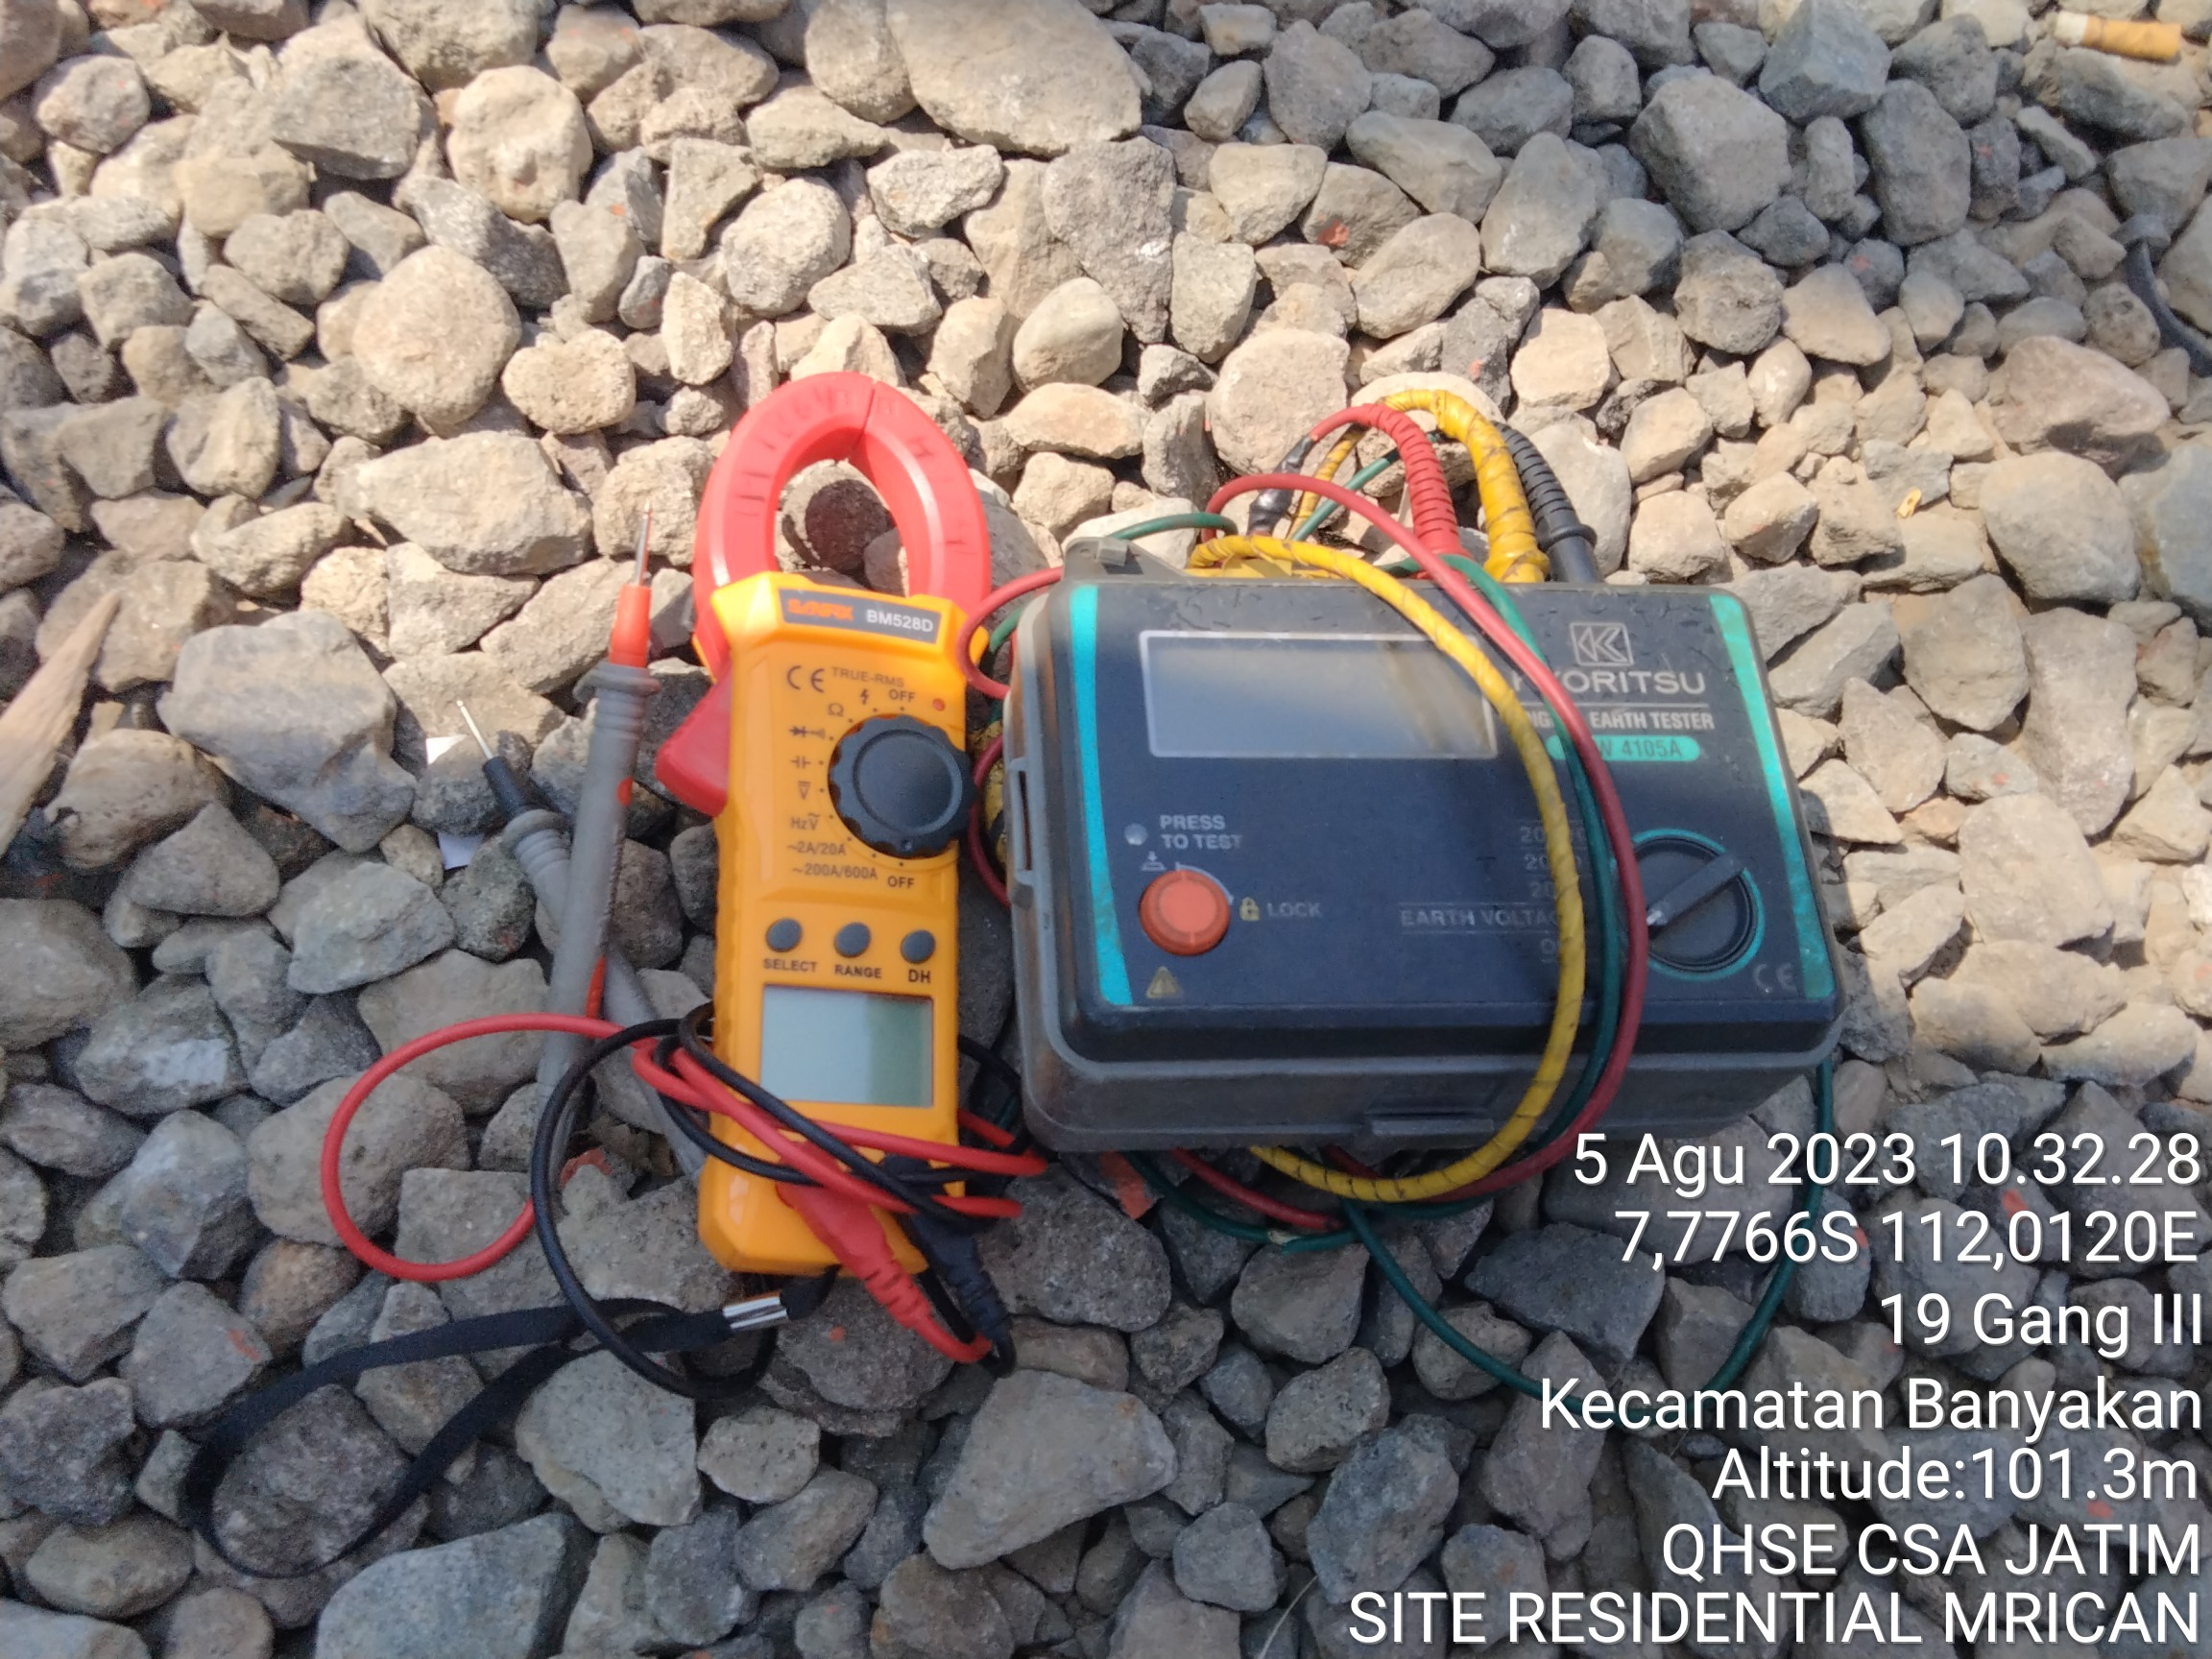EARTH_GROUNDING_TESTER: (996, 540, 1843, 1133)
TANG_AMPERE: (653, 369, 1001, 1291)
